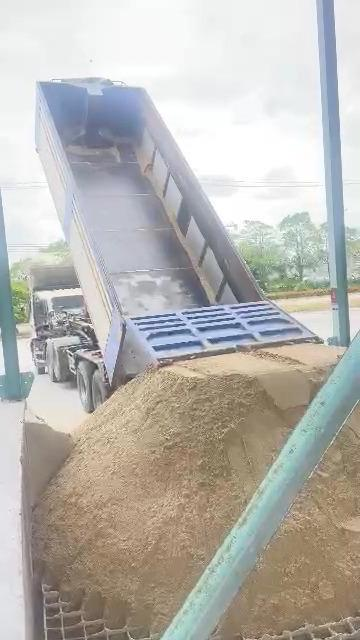sand: (36, 345, 338, 631), (222, 409, 360, 635), (22, 410, 73, 509)
